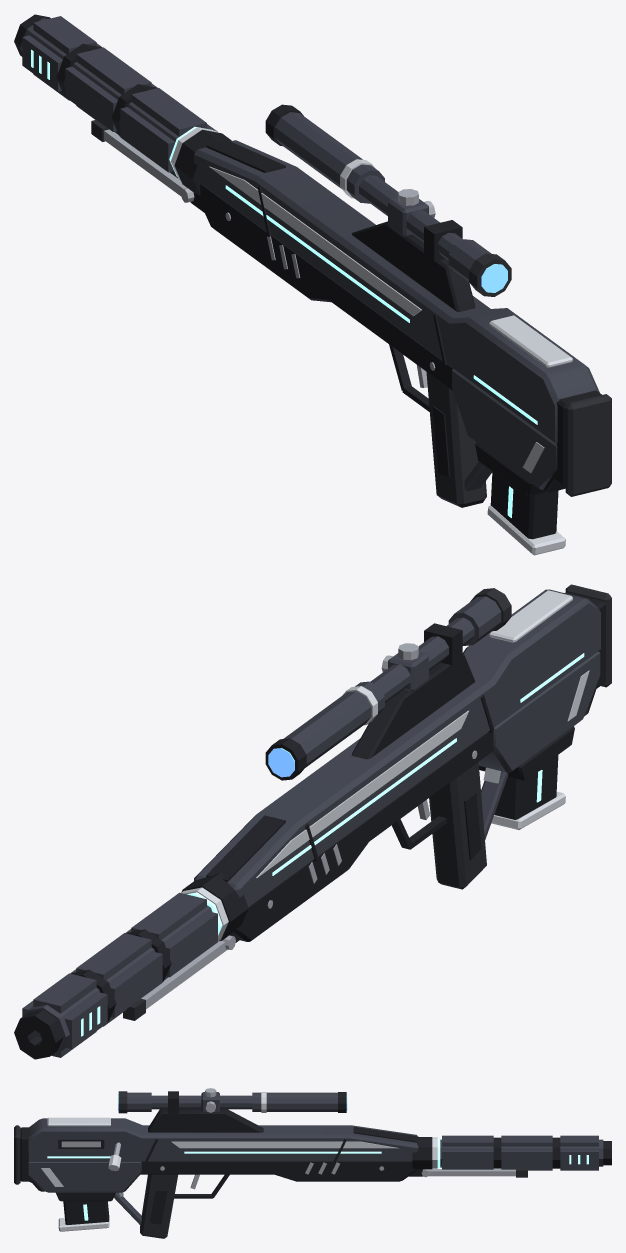
Rendered from GhostlineXR.fbx.
3 renders of one model, top to bottom at view 1: azimuth 30°, elevation 25°; view 2: azimuth 150°, elevation 25°; view 3: azimuth 270°, elevation 25°, orthographic. The views are drawn at different scales.
Parts seen in each view (by area): view 1: Shell, Lower, ActionBelly, ButtPad, ScopeBridge, Grip, Sunshade, GhostBlade, Mag, ScopeTube, SuppSide-1_0, SuppTop0 (+18 smaller); view 2: Shell, Lower, ActionBelly, Grip, ScopeBridge, Sunshade, GhostBlade, Mag, ScopeTube, MuzzleCap, SuppSide-1_1, SuppSide-1_0 (+20 smaller); view 3: Shell, Lower, ActionBelly, ScopeBridge, GhostBlade, Sunshade, Grip, ScopeTube, Mag, SuppSide1_0, SuppSide1_1, Suppressor (+24 smaller).
Boxes of the visible parts, bbox=[...] form: Shell: bbox=[194, 140, 599, 443]; Lower: bbox=[196, 183, 452, 390]; ActionBelly: bbox=[452, 368, 557, 489]; ButtPad: bbox=[565, 394, 611, 496]; ScopeBridge: bbox=[351, 221, 475, 311]; Grip: bbox=[426, 372, 486, 507]; Sunshade: bbox=[275, 112, 384, 203]; GhostBlade: bbox=[209, 166, 421, 316]; Mag: bbox=[490, 471, 558, 539]; ScopeTube: bbox=[359, 175, 462, 260]; SuppSide-1_0: bbox=[120, 107, 175, 172]; SuppTop0: bbox=[131, 88, 206, 136]; Shell: bbox=[194, 589, 600, 906]; Lower: bbox=[234, 731, 494, 941]; ActionBelly: bbox=[478, 651, 600, 772]; Grip: bbox=[429, 762, 486, 889]; ScopeBridge: bbox=[351, 653, 475, 759]; Sunshade: bbox=[283, 681, 384, 767]; GhostBlade: bbox=[256, 710, 468, 877]; Mag: bbox=[494, 755, 558, 819]; ScopeTube: bbox=[370, 617, 474, 702]; MuzzleCap: bbox=[14, 1010, 63, 1059]; SuppSide-1_1: bbox=[110, 952, 162, 1017]; SuppSide-1_0: bbox=[165, 912, 217, 977]; Shell: bbox=[28, 1118, 418, 1161]; Lower: bbox=[140, 1161, 417, 1181]; ActionBelly: bbox=[28, 1161, 141, 1192]; ScopeBridge: bbox=[148, 1109, 263, 1132]; GhostBlade: bbox=[171, 1141, 398, 1148]; Sunshade: bbox=[252, 1092, 337, 1111]; Grip: bbox=[140, 1174, 177, 1238]; ScopeTube: bbox=[151, 1095, 252, 1109]; Mag: bbox=[63, 1201, 109, 1224]; SuppSide1_0: bbox=[442, 1150, 493, 1167]; SuppSide1_1: bbox=[501, 1150, 552, 1167]; Suppressor: bbox=[440, 1139, 603, 1166].
Size of the model in its own units: 0.518 by 1.47 by 5.46.
